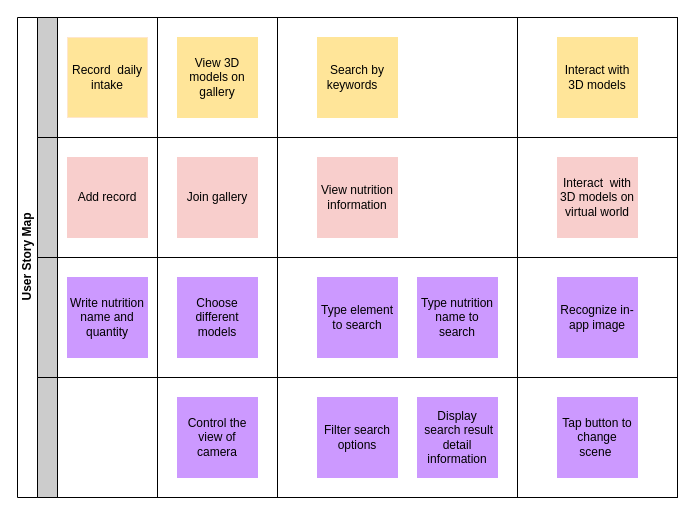
Some shapes in this 695 by 516 pixel diagram are drawn without their labels. The box of each missing label's shape, as (x1, y1, x2, y2) in pixels:
First release: (36, 256, 678, 378)
Second release: (36, 376, 678, 498)
User Activity: (36, 16, 678, 138)
User Task: (36, 136, 678, 258)
